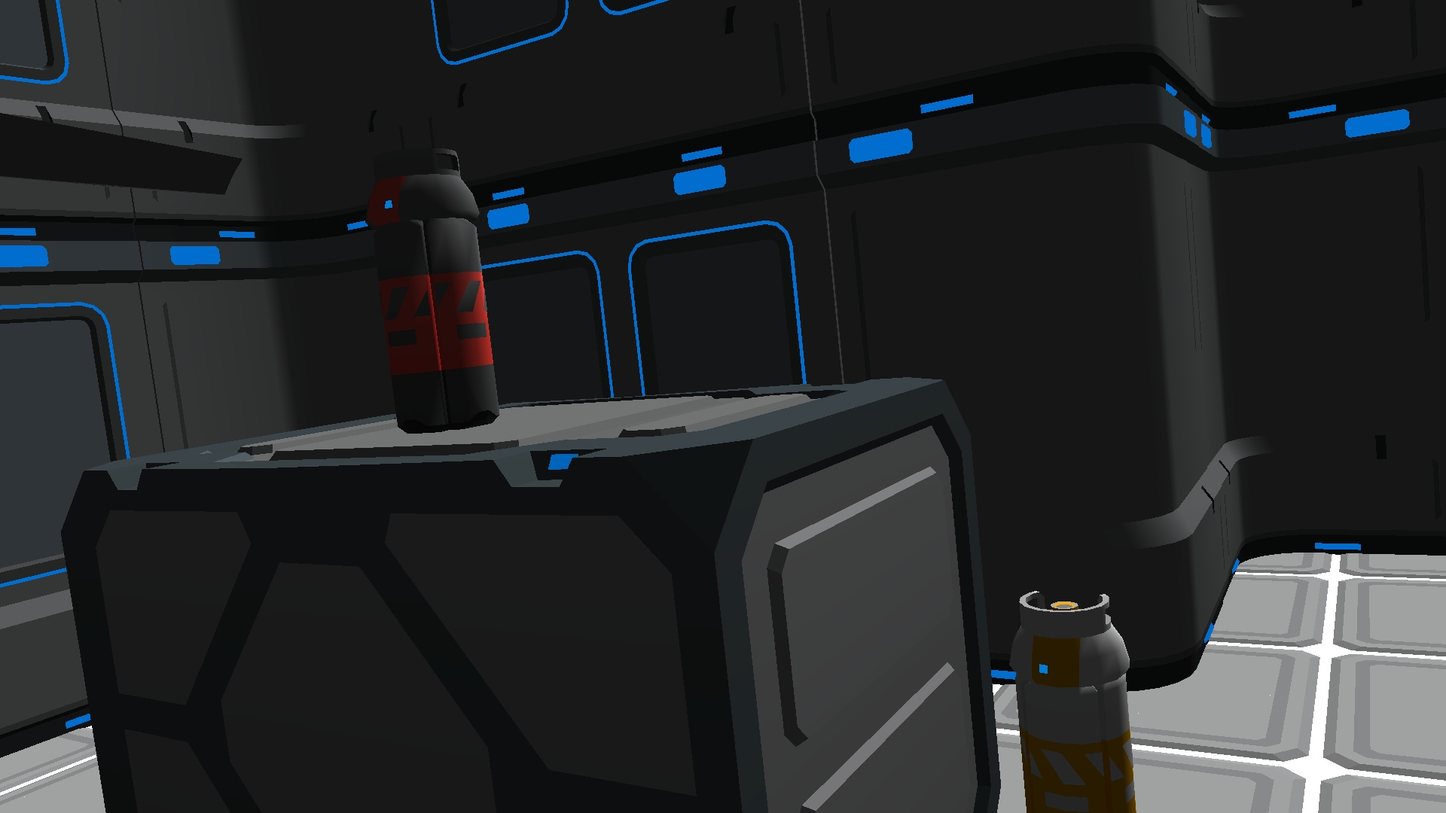red barrel: (365, 149, 500, 434)
yellow barrel: (1009, 590, 1136, 813)
